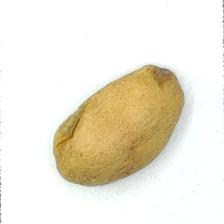NG: (51, 103, 87, 146), (149, 63, 180, 94)
